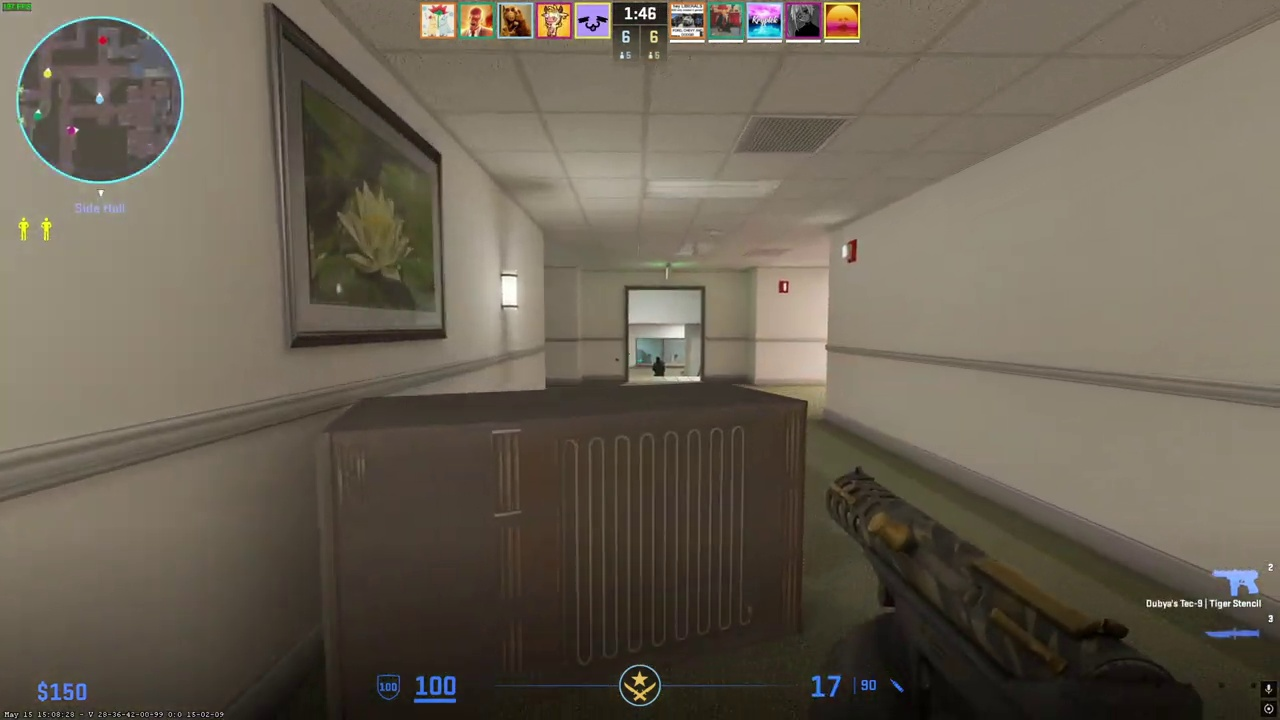CT: (653, 355, 665, 377)
